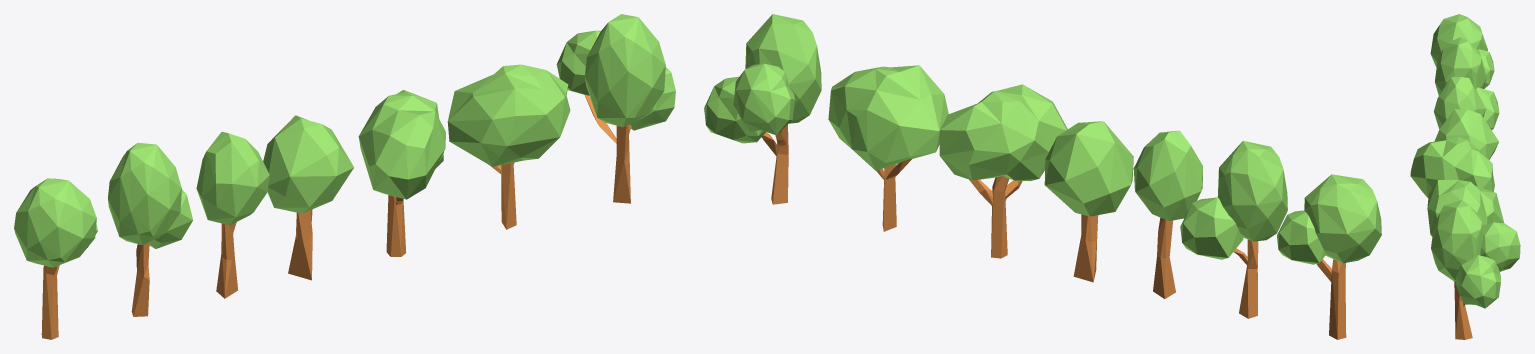
File: Trees.fbx
3 views of the same model, side by side, from view 1: azimuth 30°, elevation 25°; view 2: azimuth 150°, elevation 25°; view 3: azimuth 270°, elevation 25° (orthographic). The views are drawn at different scales.
Parts seen in each view (by area): view 1: Tree7, Tree6, Tree5, Tree2, Tree4, Tree1, Tree3; view 2: Tree7, Tree5, Tree6, Tree2, Tree1, Tree4, Tree3; view 3: Tree7, Tree5, Tree2, Tree6, Tree1, Tree4, Tree3.
Boxes of the visible parts, x1,y1,x2,y2 form: Tree7: (556, 14, 675, 203); Tree6: (447, 64, 570, 229); Tree5: (358, 89, 445, 256); Tree2: (108, 142, 192, 316); Tree4: (263, 115, 353, 280); Tree1: (14, 178, 97, 339); Tree3: (196, 131, 269, 298); Tree7: (704, 14, 821, 204); Tree5: (939, 84, 1067, 258); Tree6: (828, 65, 948, 231); Tree2: (1180, 140, 1287, 318); Tree1: (1277, 174, 1381, 339); Tree4: (1044, 121, 1133, 282); Tree3: (1133, 130, 1202, 298); Tree7: (1431, 200, 1520, 339); Tree5: (1410, 137, 1494, 197); Tree2: (1435, 37, 1499, 129); Tree6: (1427, 180, 1503, 236); Tree1: (1430, 14, 1494, 88); Tree4: (1434, 109, 1498, 159); Tree3: (1433, 77, 1485, 129).
Bounding box in the file's own units: 2670 × 13715 × 3591.
